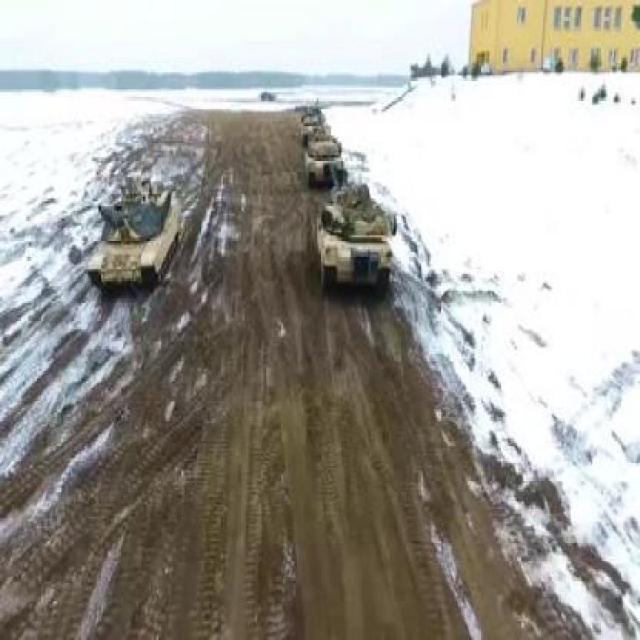Tanks: (91, 174, 180, 298), (318, 181, 400, 302), (306, 128, 346, 192)
